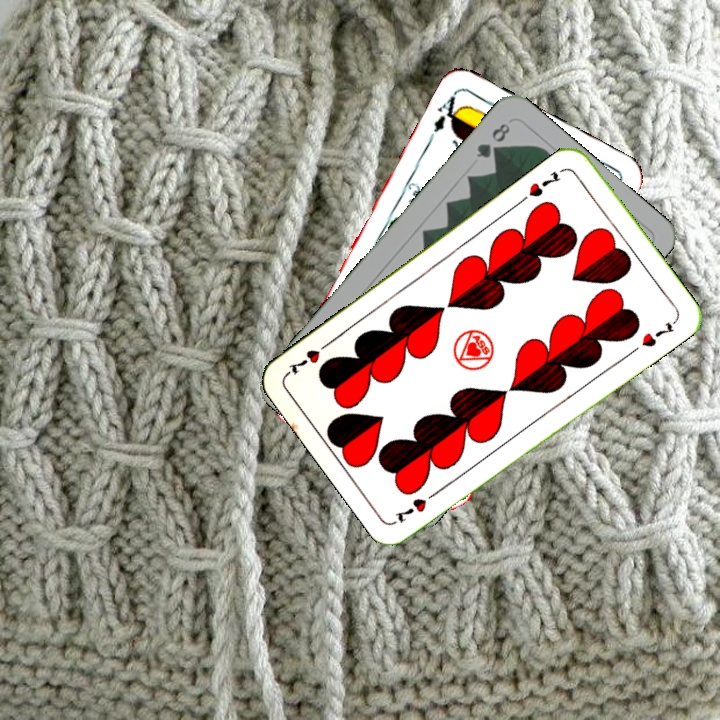EA: (424, 89, 466, 144)
G8: (472, 119, 513, 161)
H7: (391, 485, 442, 526), (524, 167, 564, 200)
